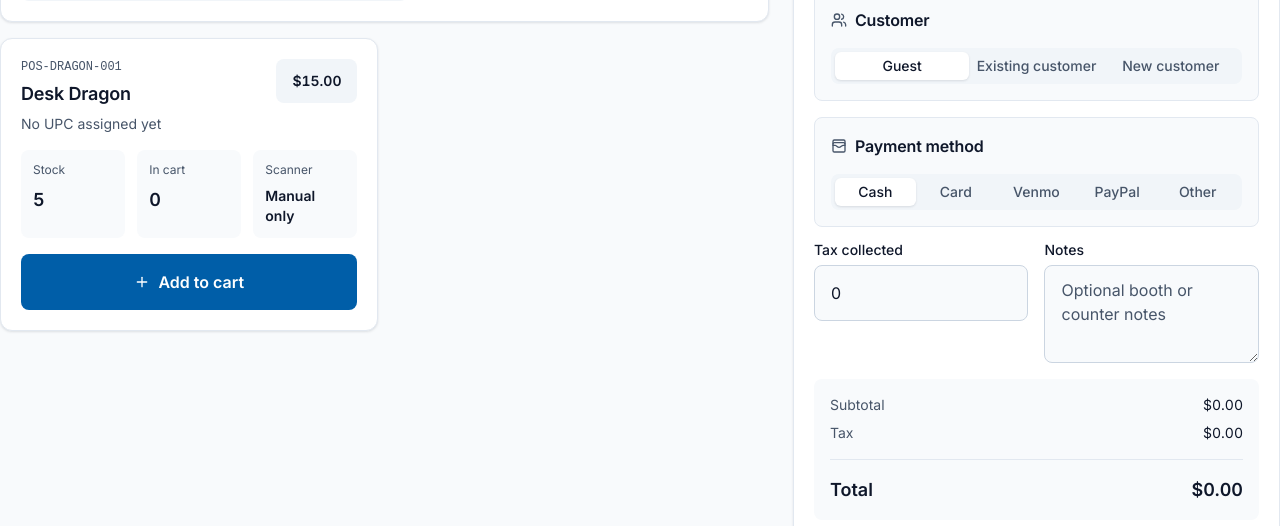
Test: POSPage › adds items, updates quantities, recalculates totals, and removes cart lines
(page scrolled)
Expected: the heading "Desk Dragon" is shown, [21,83,131,104]
Click the button with aria-label "Add Desk Dragon to cart" at (189, 282), box [21,254,358,310]
(page scrolled)
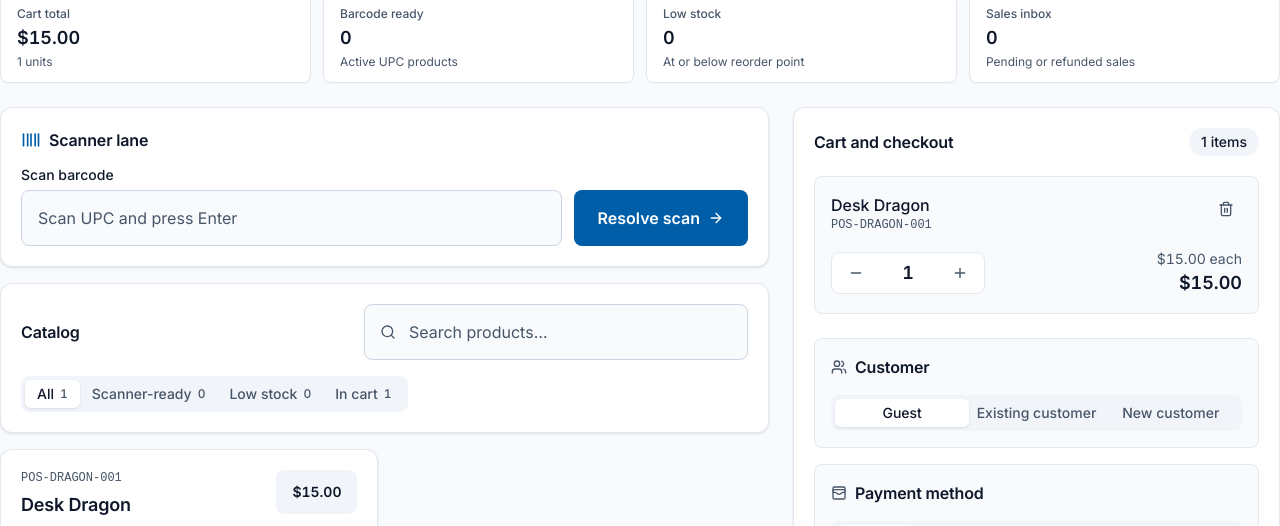
Result: the text named "Desk Dragon quantity" reads "1" at [902,262,914,283]
Result: the text "$15.00 each" is shown at [1157,249,1242,269]
Click the button named "Increase quantity for Desk Dragon" at (960, 273), box [936,253,984,293]
(page scrolled)
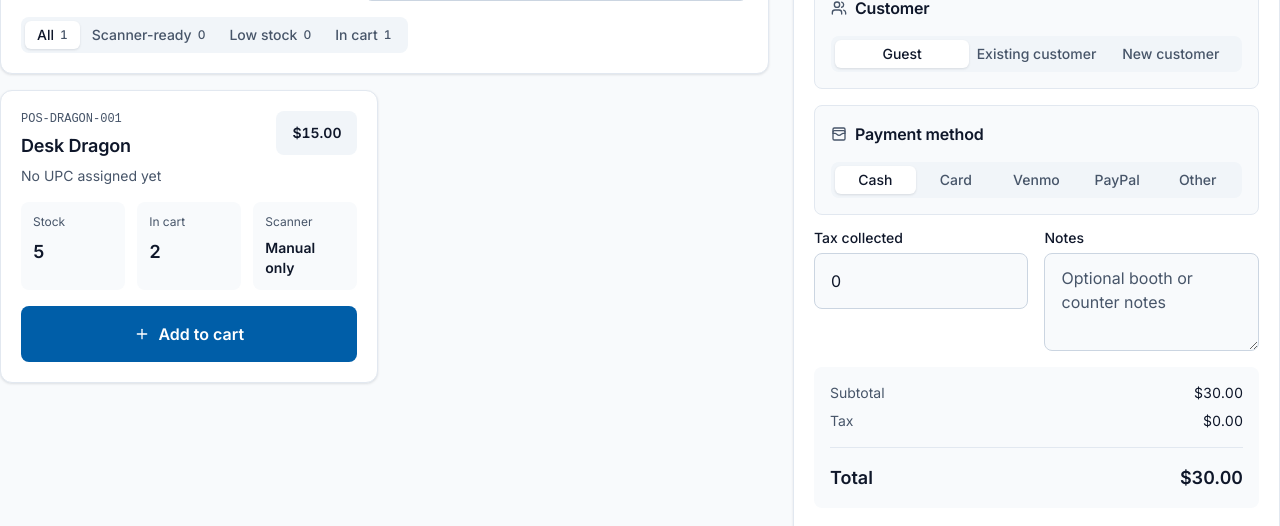
Replace the text in the number field labelled "Tax collected" with "2.5" at (921, 281), box [814,253,1028,309]
(page scrolled)
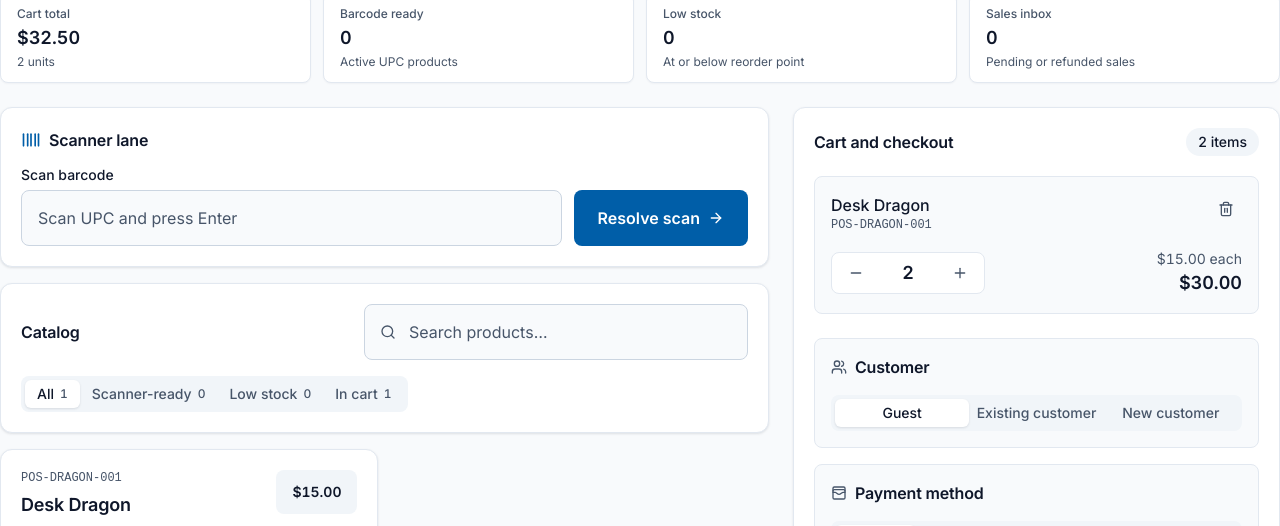
Result: the text "$32.50" is shown at [17,27,80,48]
Click the button named "Decrease quantity for Desk Dragon" at (856, 273), box [832,253,880,293]
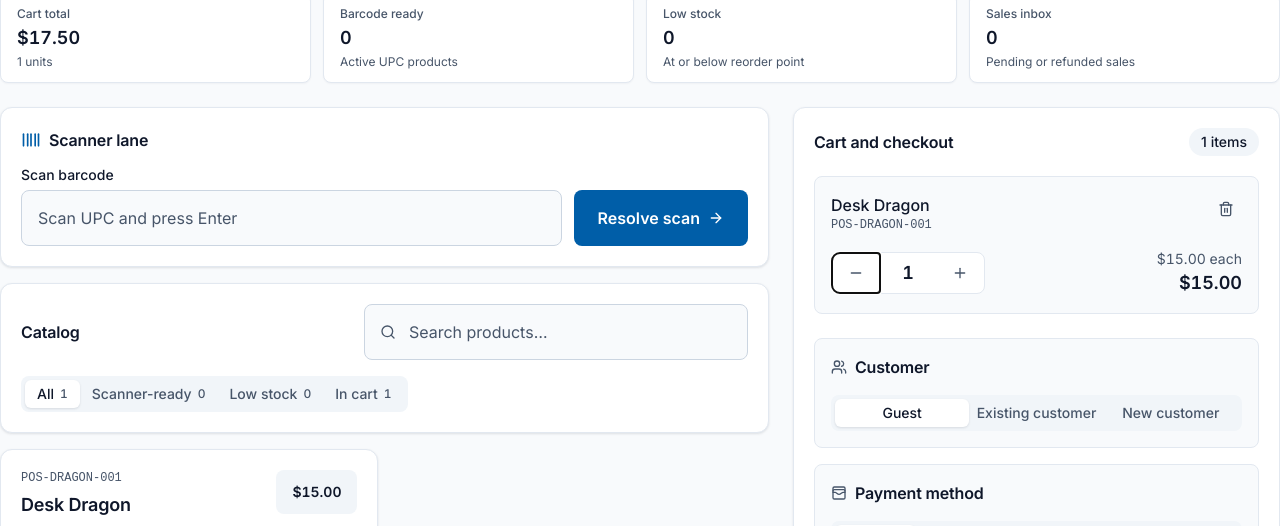
Result: the text named "Desk Dragon quantity" reads "1" at [902,262,914,283]
Click the button named "Remove Desk Dragon from cart" at (1226, 209), box [1210,193,1242,225]
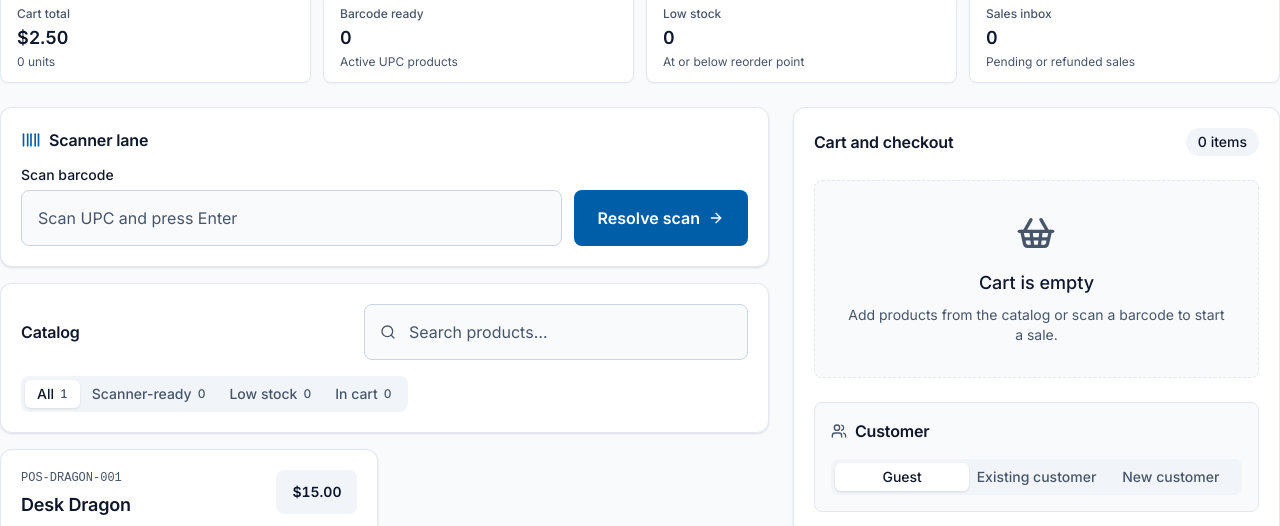
Result: the text "Cart is empty" is shown at [979,272,1094,293]
